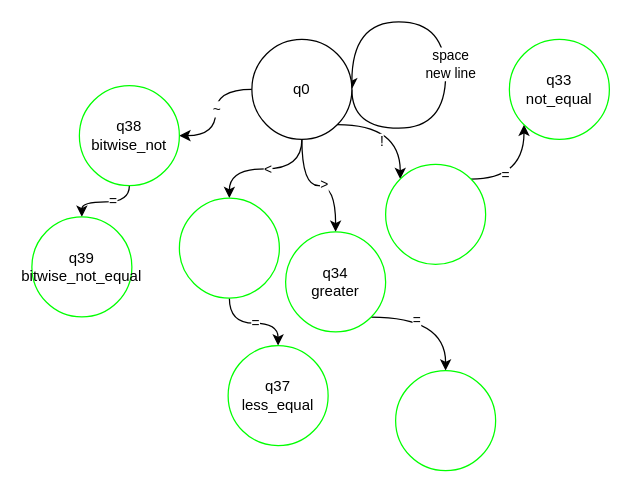
This 631x493 diagram has some shape labels left out. Here are the shapes that lost their labels. From the top down, the centre of each, then its label:
At point (435, 213): "q32 NOT".
At point (228, 247): "q36 less".
At point (445, 420): "q35 greater_equal".
